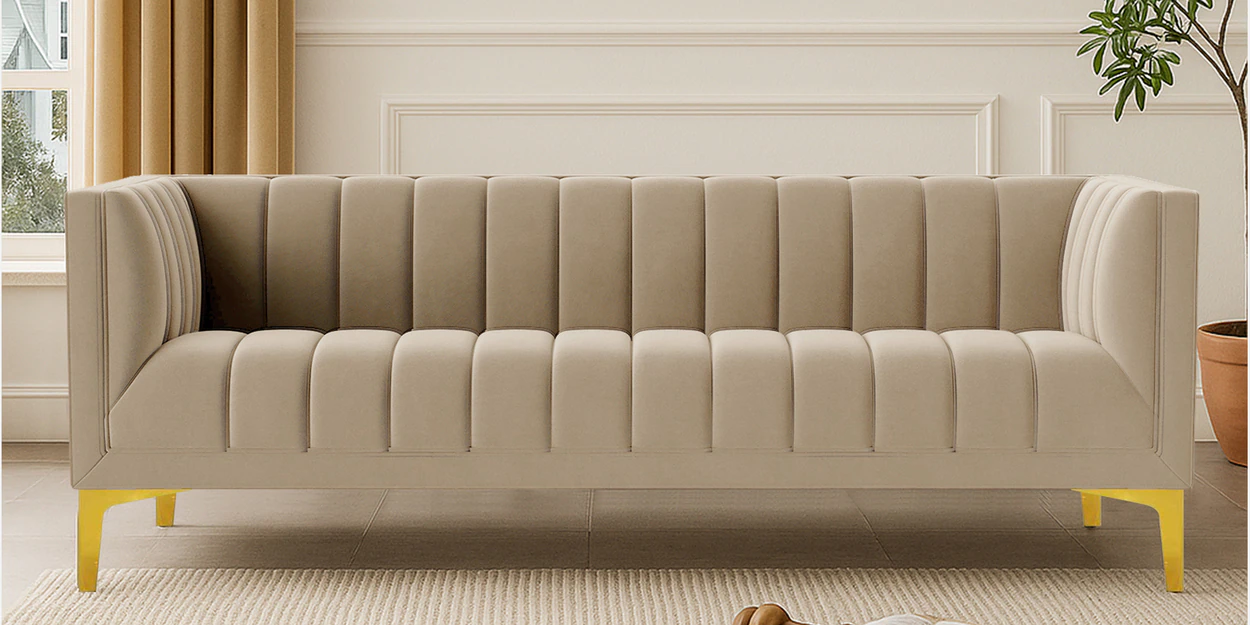3seatersofa: (65, 172, 1198, 591)
backrest: (179, 177, 1080, 332)
base: (71, 442, 1192, 488)
leftarmrest: (1059, 177, 1197, 469)
leg: (77, 489, 185, 591), (1075, 489, 1183, 591)
rightarmrest: (67, 178, 203, 484)
seat: (110, 329, 1152, 450)
